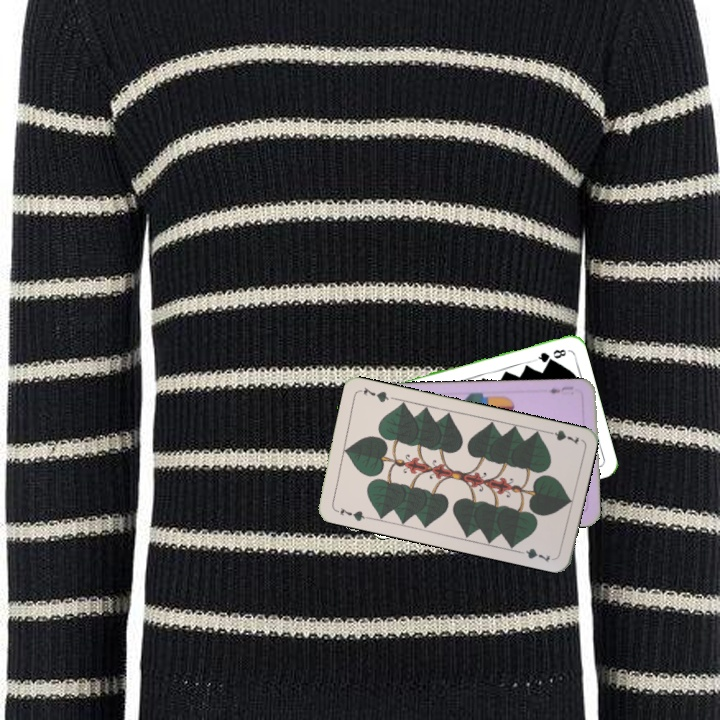EU: (545, 382, 576, 396)
G7: (542, 426, 582, 447), (331, 504, 371, 524)
G8: (530, 345, 569, 365)
